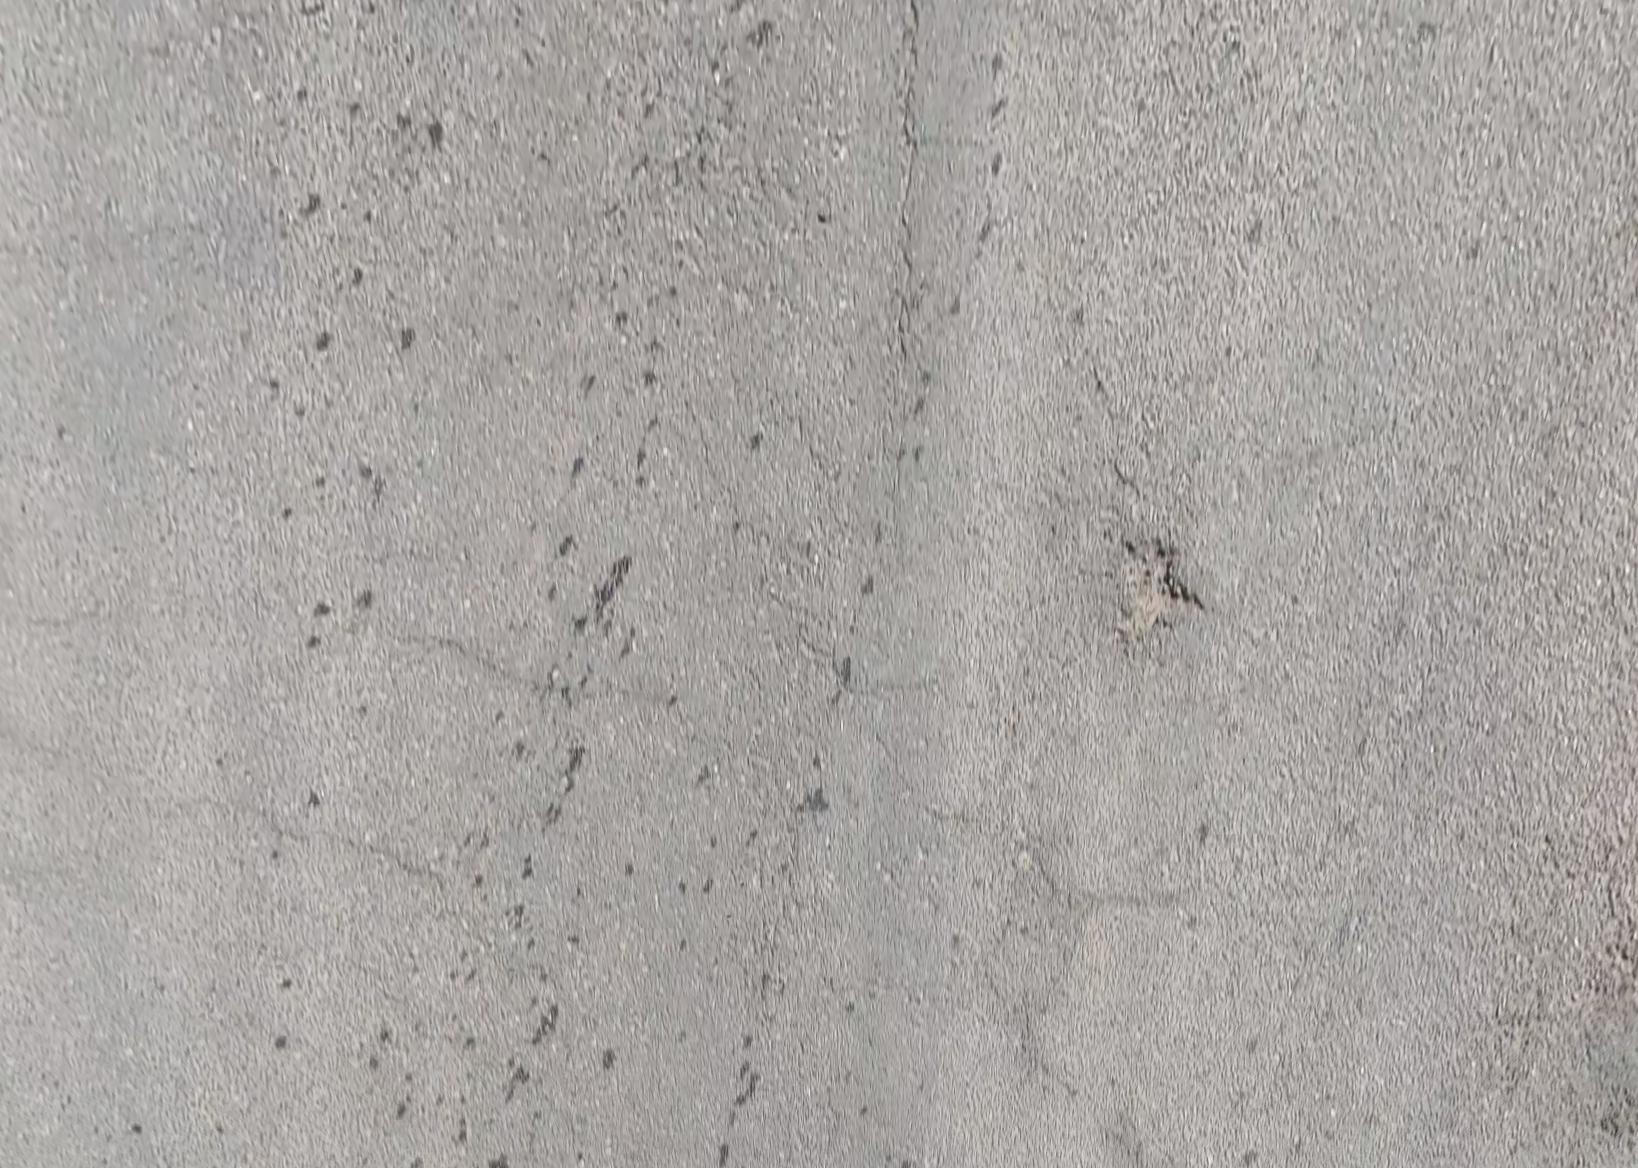pothole: (1113, 537, 1212, 656)
